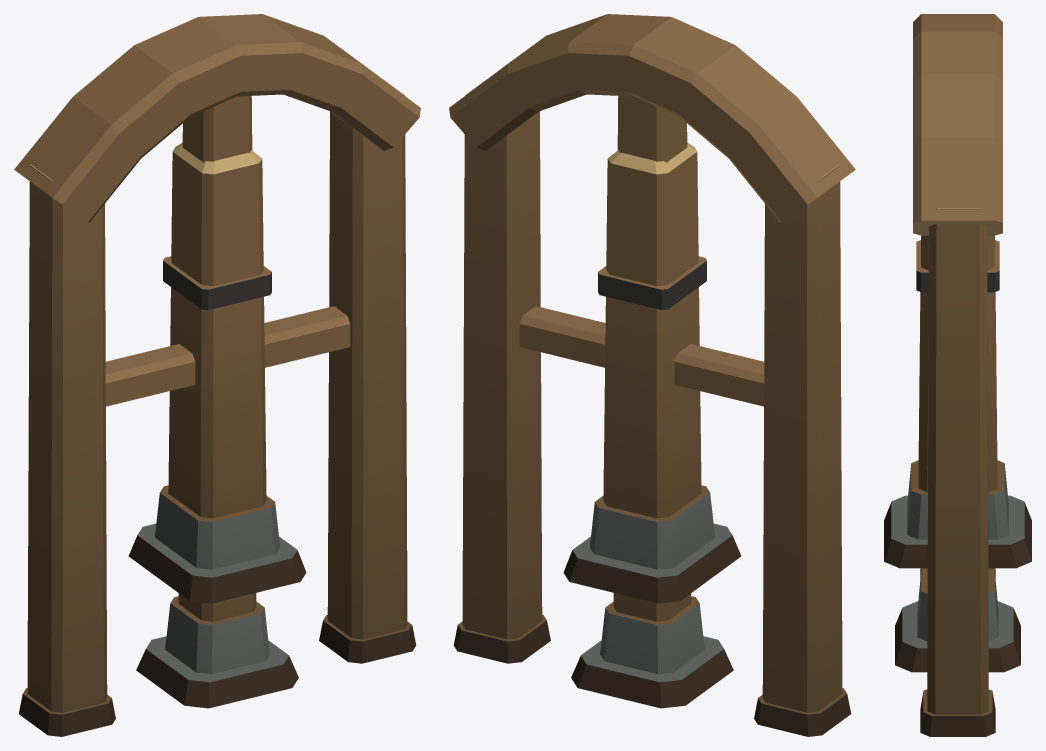
The model's file is Fence_Kit-v2.0.0.glb.
The picture shows the model from 3 angles, left to right: view 1: azimuth 30°, elevation 25°; view 2: azimuth 150°, elevation 25°; view 3: azimuth 270°, elevation 25°; orthographic projection. The views are drawn at different scales.
Parts seen in each view (by area): view 1: Mesh_Gate_Arch_Runtime, Mesh_Gate_Post_Runtime, Mesh_Fence_Post_Runtime, Mesh_Fence_Rail_Runtime; view 2: Mesh_Gate_Arch_Runtime, Mesh_Gate_Post_Runtime, Mesh_Fence_Post_Runtime, Mesh_Fence_Rail_Runtime; view 3: Mesh_Gate_Arch_Runtime, Mesh_Gate_Post_Runtime, Mesh_Fence_Post_Runtime.
Part boxes in pixels (left/top/right/bottom): Mesh_Gate_Arch_Runtime: left=14, top=14, right=420, bottom=736; Mesh_Gate_Post_Runtime: left=128, top=143, right=306, bottom=603; Mesh_Fence_Post_Runtime: left=136, top=96, right=298, bottom=708; Mesh_Fence_Rail_Runtime: left=105, top=306, right=350, bottom=406; Mesh_Gate_Arch_Runtime: left=449, top=14, right=855, bottom=736; Mesh_Gate_Post_Runtime: left=563, top=143, right=741, bottom=603; Mesh_Fence_Post_Runtime: left=571, top=96, right=733, bottom=708; Mesh_Fence_Rail_Runtime: left=519, top=306, right=764, bottom=406; Mesh_Gate_Arch_Runtime: left=913, top=14, right=1002, bottom=736; Mesh_Gate_Post_Runtime: left=884, top=235, right=1031, bottom=568; Mesh_Fence_Post_Runtime: left=895, top=568, right=1020, bottom=672.
Bounding box in the file's own units: 43215 × 72713 × 15729.
Materials: 1 (1 with a texture image).
